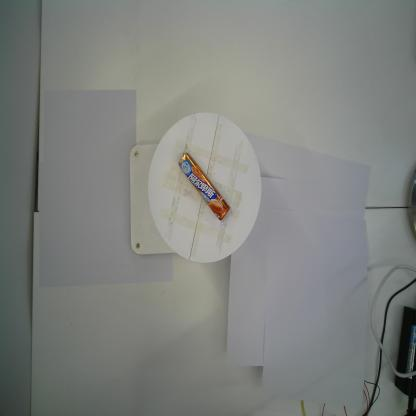Candy: (178, 152, 231, 221)
